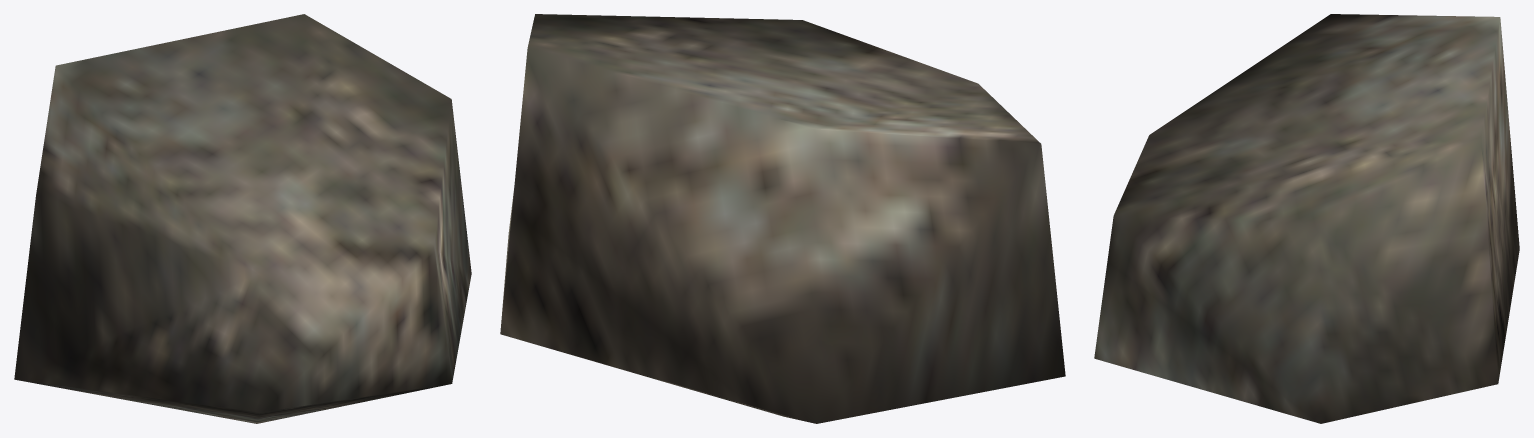
The model's file is Rock1E.FBX.
The picture shows the model from 3 angles, left to right: view 1: azimuth 30°, elevation 25°; view 2: azimuth 150°, elevation 25°; view 3: azimuth 270°, elevation 25°; orthographic projection. The views are drawn at different scales.
Visible parts, largest first — view 1: Rock1E; view 2: Rock1E; view 3: Rock1E.
Boxes of the visible parts, box(x1,y1,x2,y2) form: Rock1E: box(14, 14, 471, 423); Rock1E: box(500, 14, 1065, 423); Rock1E: box(1094, 14, 1519, 423).
Bounding box in the file's own units: 0.7776 × 0.5293 × 0.6044.
